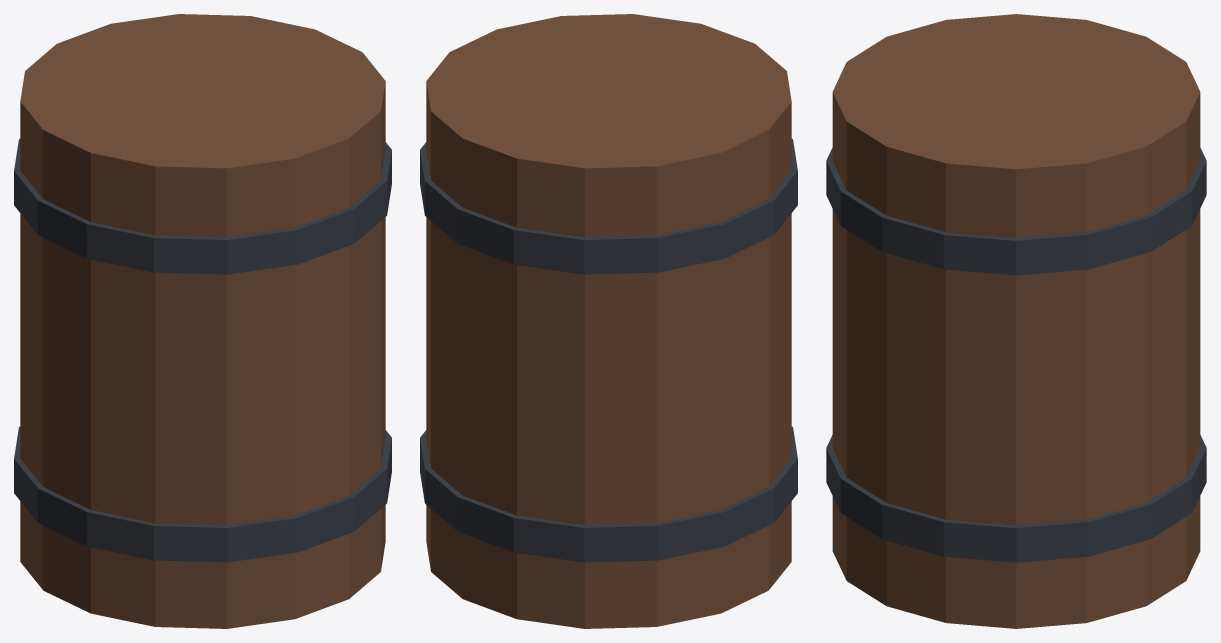
The model's file is prop_barrel_2.glb.
3 renders of one model, left to right at view 1: azimuth 30°, elevation 25°; view 2: azimuth 150°, elevation 25°; view 3: azimuth 270°, elevation 25°, orthographic.
Parts seen in each view (by area): view 1: PROP_Barrel_2; view 2: PROP_Barrel_2; view 3: PROP_Barrel_2.
Part boxes in pixels (bbox=[...]): PROP_Barrel_2: bbox=[14, 14, 391, 628]; PROP_Barrel_2: bbox=[420, 14, 797, 628]; PROP_Barrel_2: bbox=[826, 14, 1206, 628].
Size of the model in its own units: 0.6 by 0.8 by 0.6.
